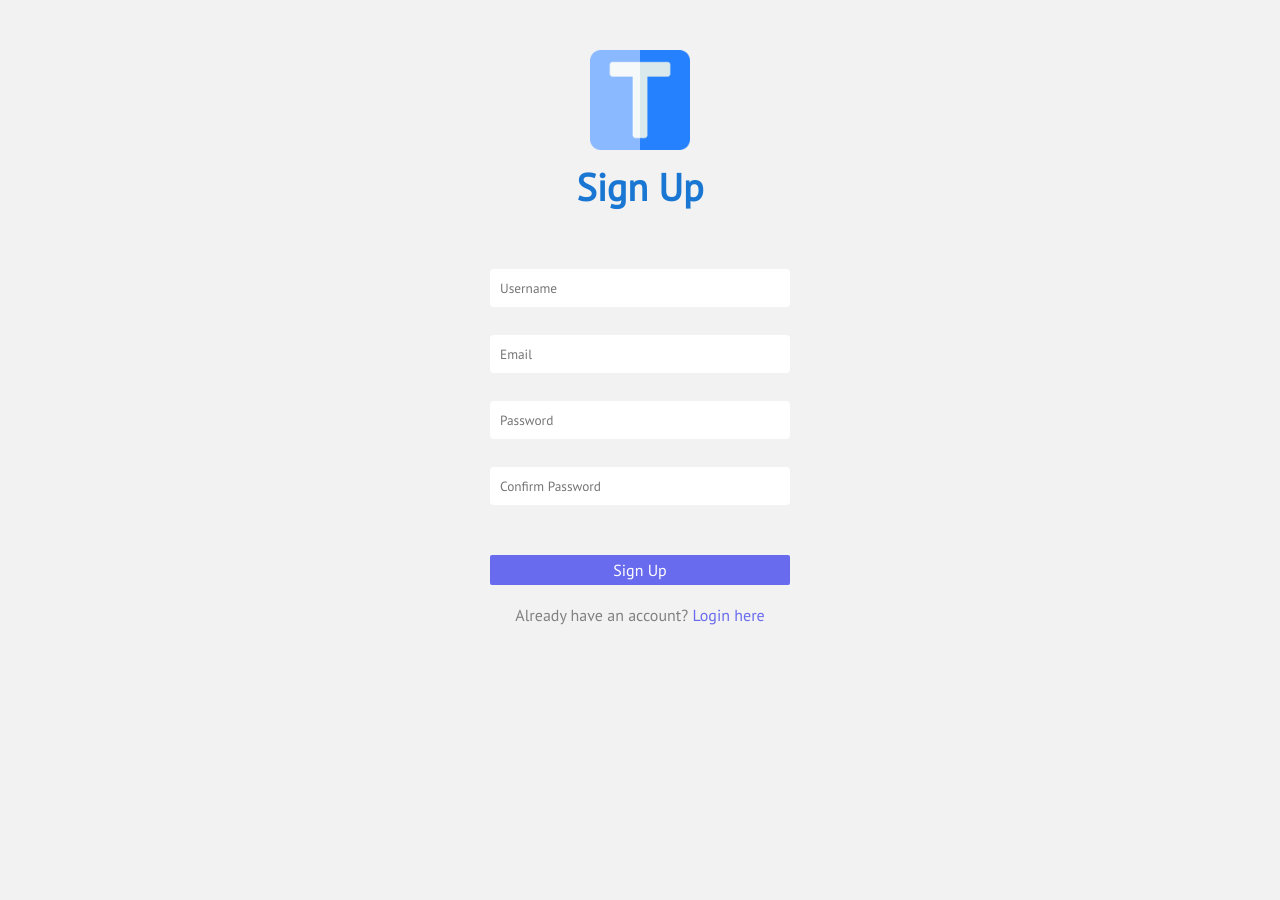
signup tests › shows error when all fields are empty and user submit the form
// Click signup button
Click the button: x=640, y=570 [490,555,790,585]
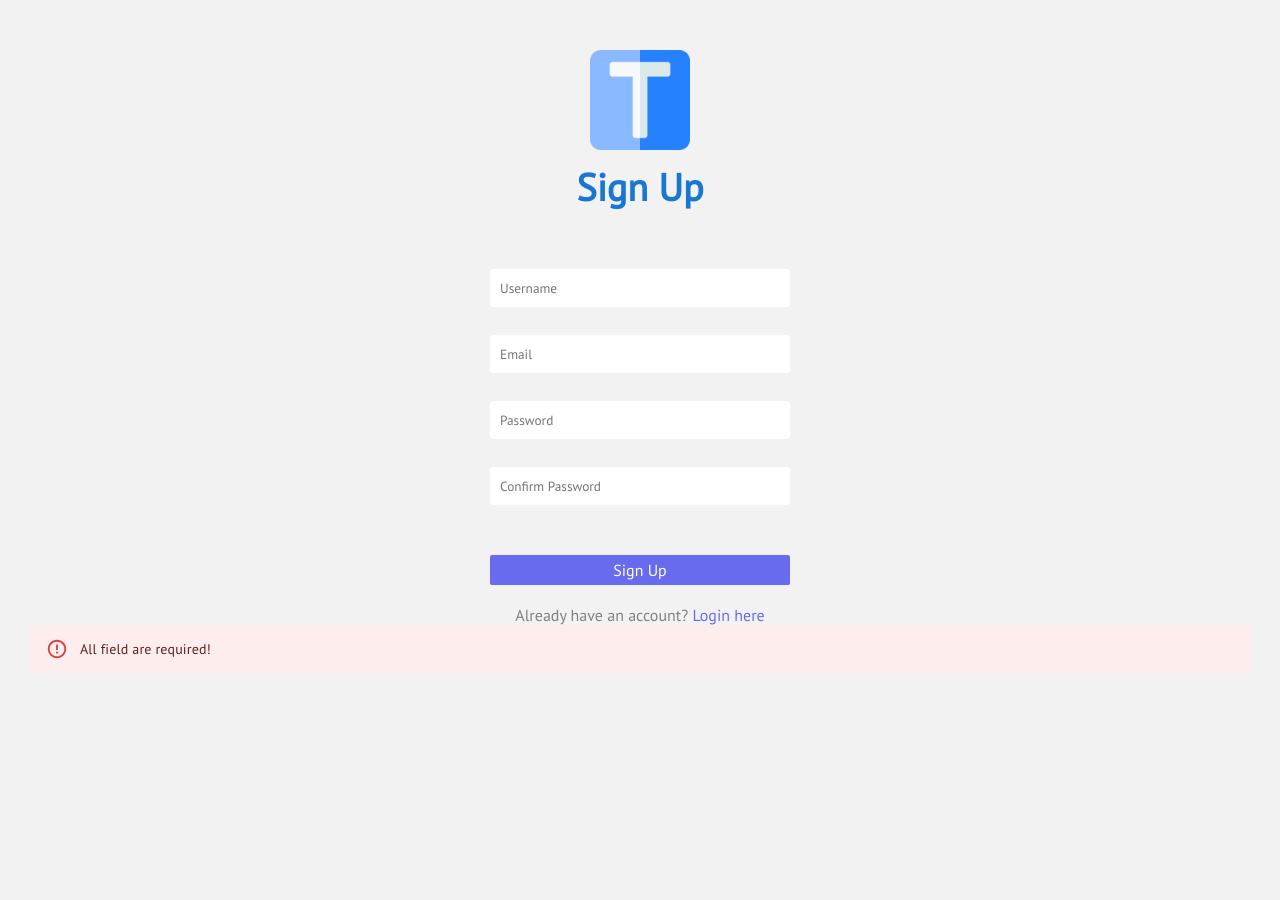
Expected: the message "All field are required!" is shown, [30,625,1250,673]
Expected: the message with test id "alert-element" reads "All field are required!", [80,640,211,658]
